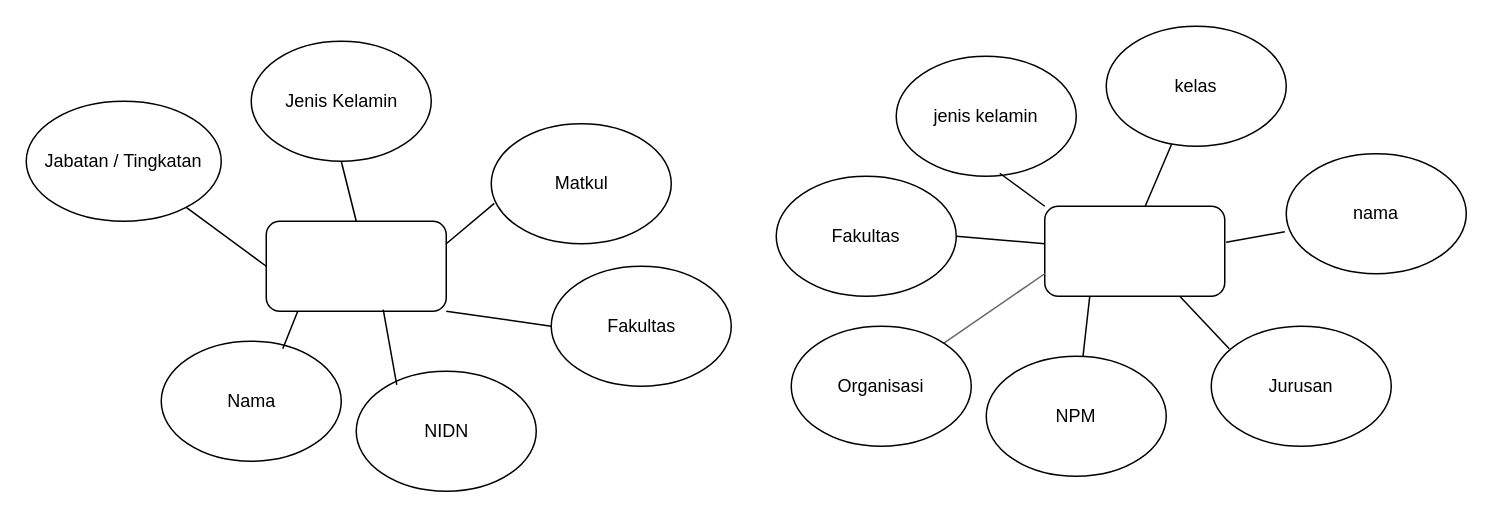
Image size: 1493x518. Some labels were removed from this diagram. The shapes that lost their labels are listed below. From the top down, each one's centre as x and y in pixels, then its label:
(355,265): Dosen
(1134,250): Mahasiswa
